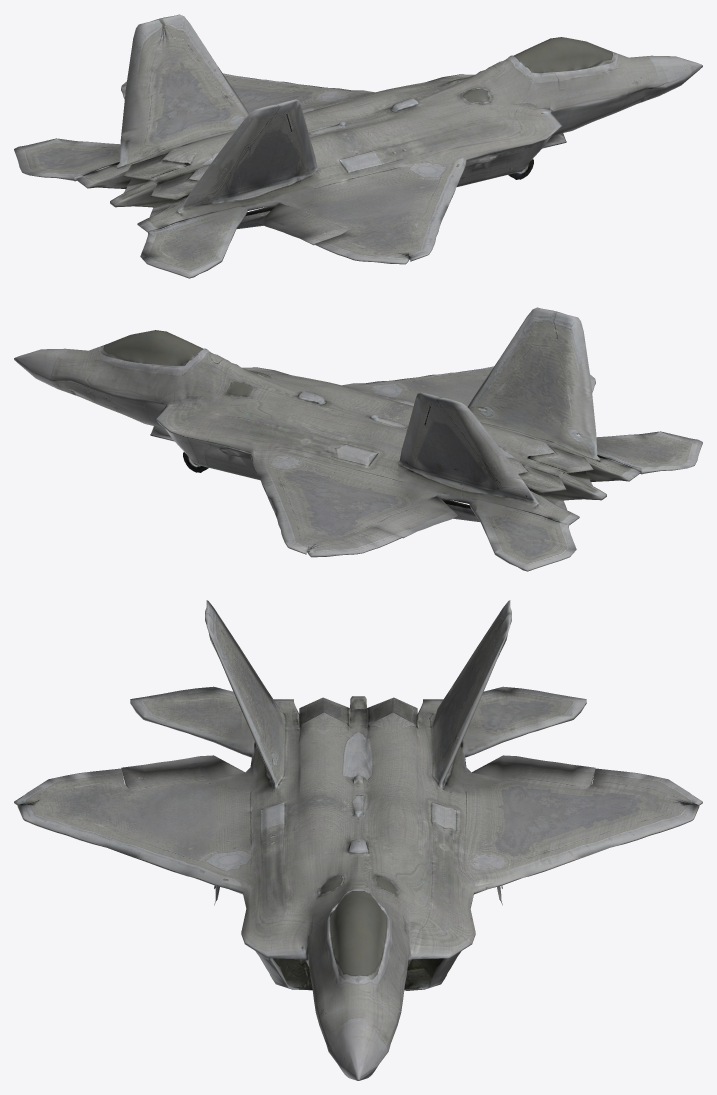
Rendered from fighter.glb.
3 renders of one model, top to bottom at view 1: azimuth 30°, elevation 25°; view 2: azimuth 150°, elevation 25°; view 3: azimuth 270°, elevation 25°, orthographic. The views are drawn at different scales.
Visible parts, largest first — view 1: bdd3cf99-985f-4068-9748-d0b547f029bf_2; view 2: bdd3cf99-985f-4068-9748-d0b547f029bf_2; view 3: bdd3cf99-985f-4068-9748-d0b547f029bf_2.
Part boxes in pixels (bbox=[...]): bdd3cf99-985f-4068-9748-d0b547f029bf_2: bbox=[14, 14, 702, 278]; bdd3cf99-985f-4068-9748-d0b547f029bf_2: bbox=[14, 307, 702, 571]; bdd3cf99-985f-4068-9748-d0b547f029bf_2: bbox=[14, 600, 702, 1080].
Size of the model in its own units: 0.9992 by 0.2933 by 0.7411.
Materials: 1 (1 with a texture image).
